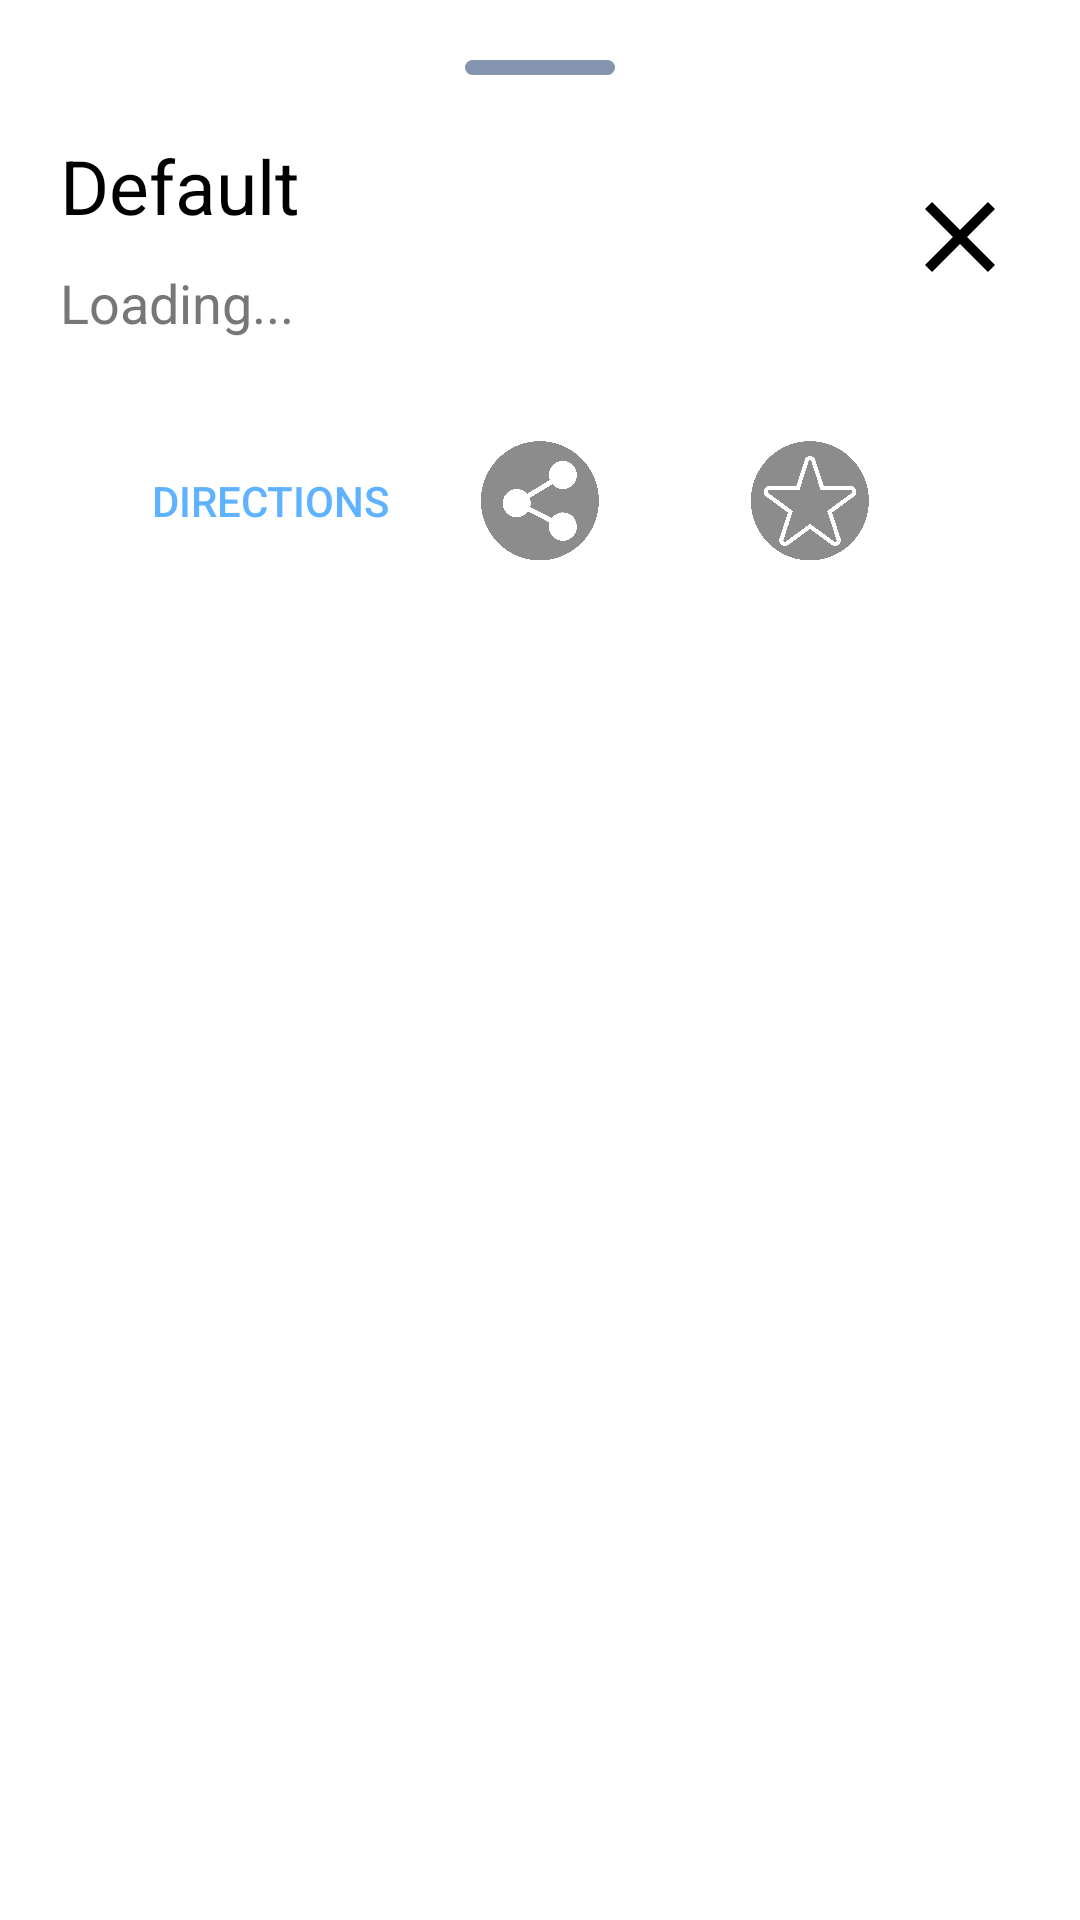

Icon bounding boxes for this 1080px x 1920px phone screenshot, format (x1, y1, x2, y2):
close: (925, 202, 995, 272)
favourite: (751, 441, 869, 560)
share: (481, 441, 599, 560)
